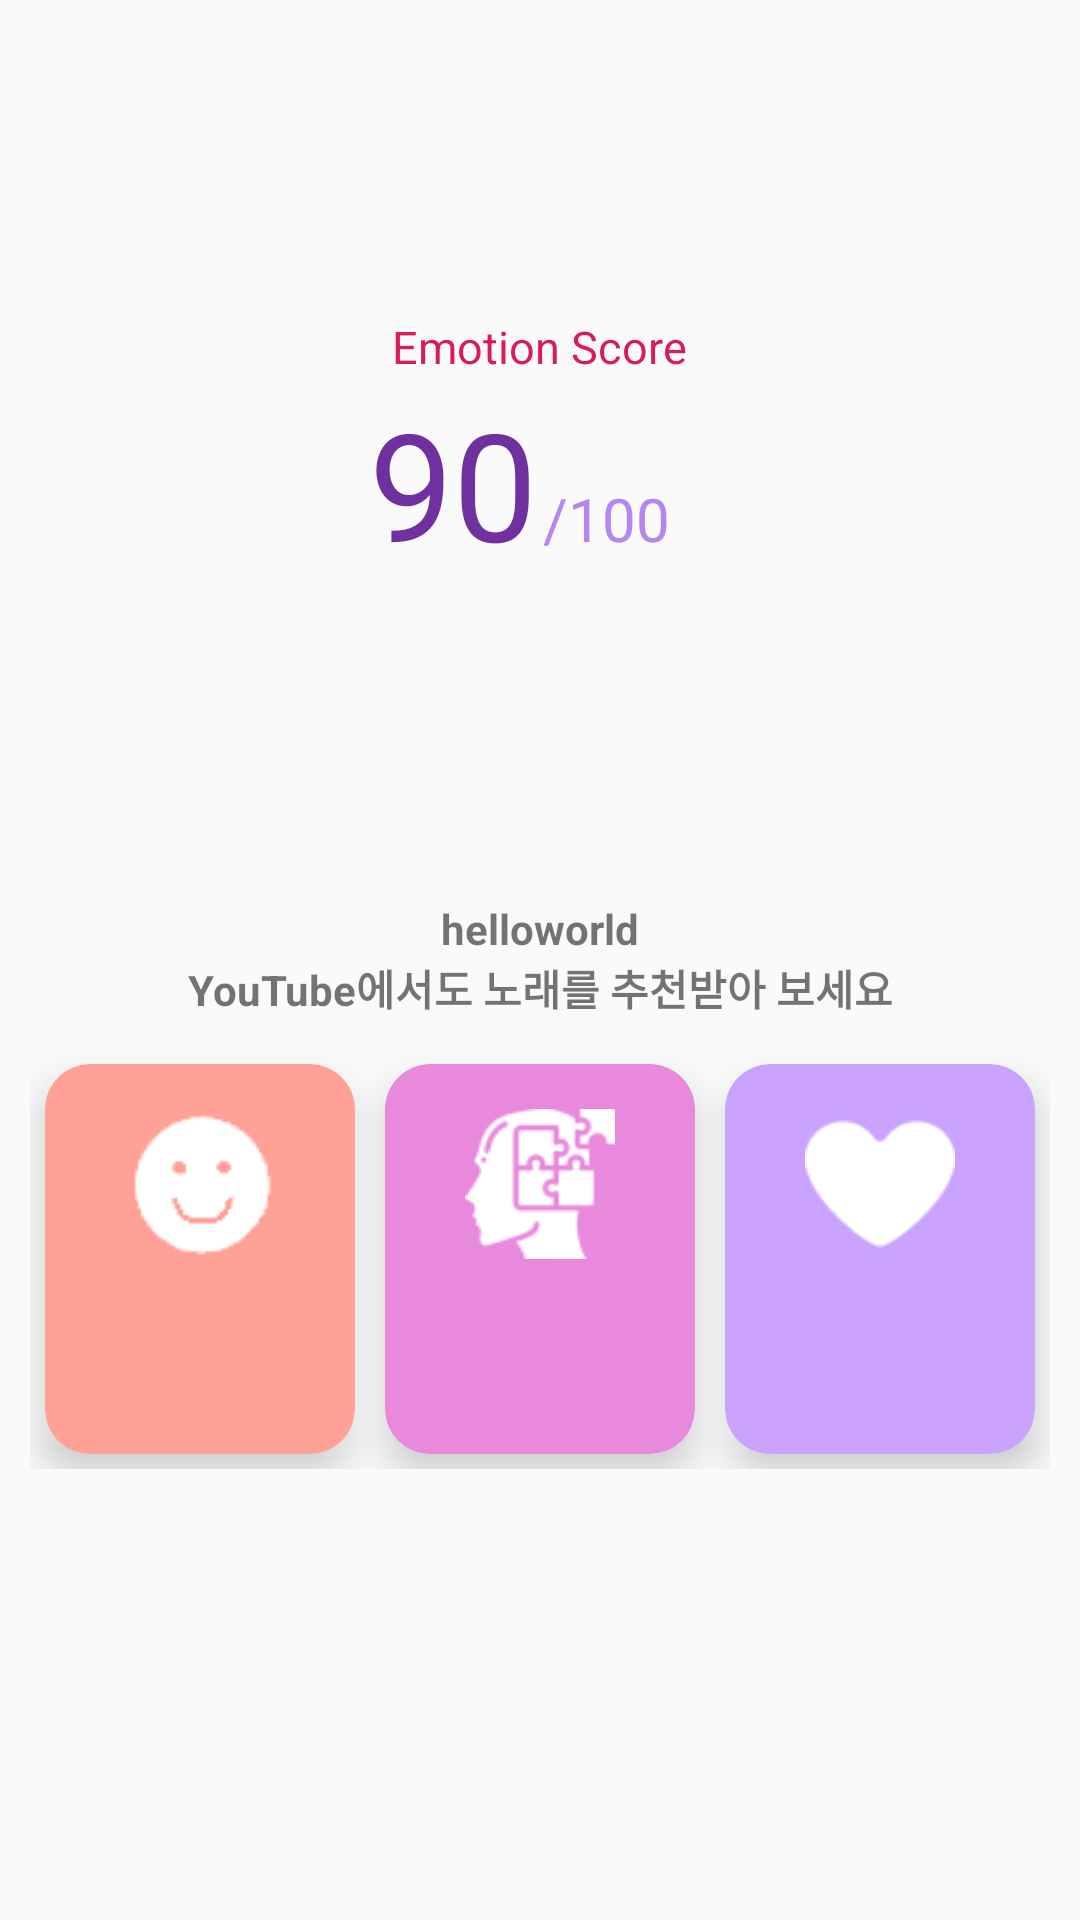

Named icons in this screenshot (1080w x 1920h) and their centers, (x,y):
autism: (540,1184)
emotion: (203,1185)
heart: (880,1184)
